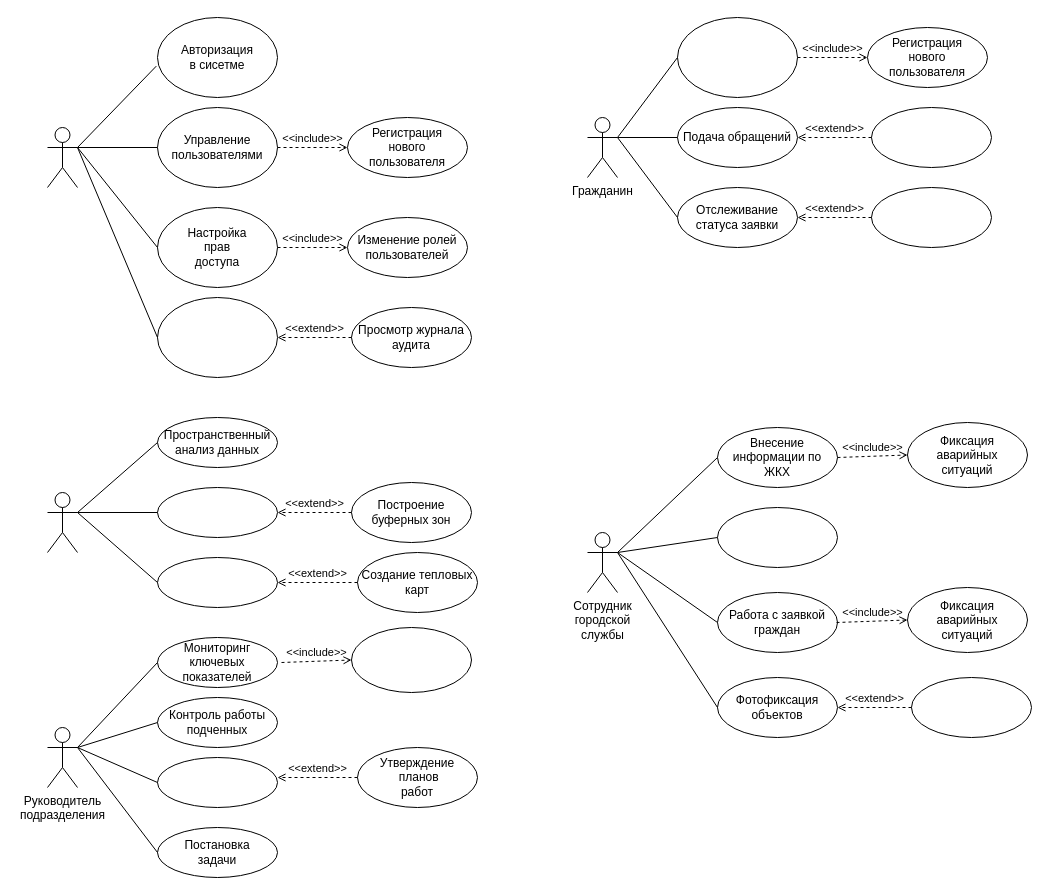
Some shapes in this 1049 by 895 pixel diagram are drawn without their labels. The shapes that lost their labels are listed below. From the top down, each one's centre as x and y in pixels, then its label:
At (737,57): "Просмотр карты города".
At (62,157): "Администратор системы".
At (931,137): "Прикрепление фотографий".
At (931,217): "Получение уведомлений".
At (217,337): "Мониторинг безопасности".
At (62,522): "Муниципальный аналитик".
At (217,512): "Работа с Гис-интерфейсами".
At (777,537): "Внесение транспортных данных".
At (217,582): "Визуализация данных".
At (411,659): "Просмотр дашбордов".
At (971,707): "Прикрепление изображений к отчету".
At (217,782): "Принятие управленческих решений".
